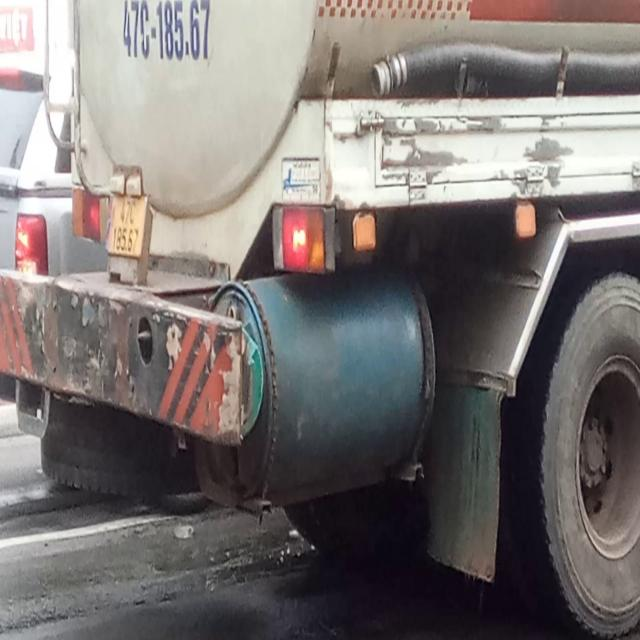bien_vang: (109, 192, 146, 255)
